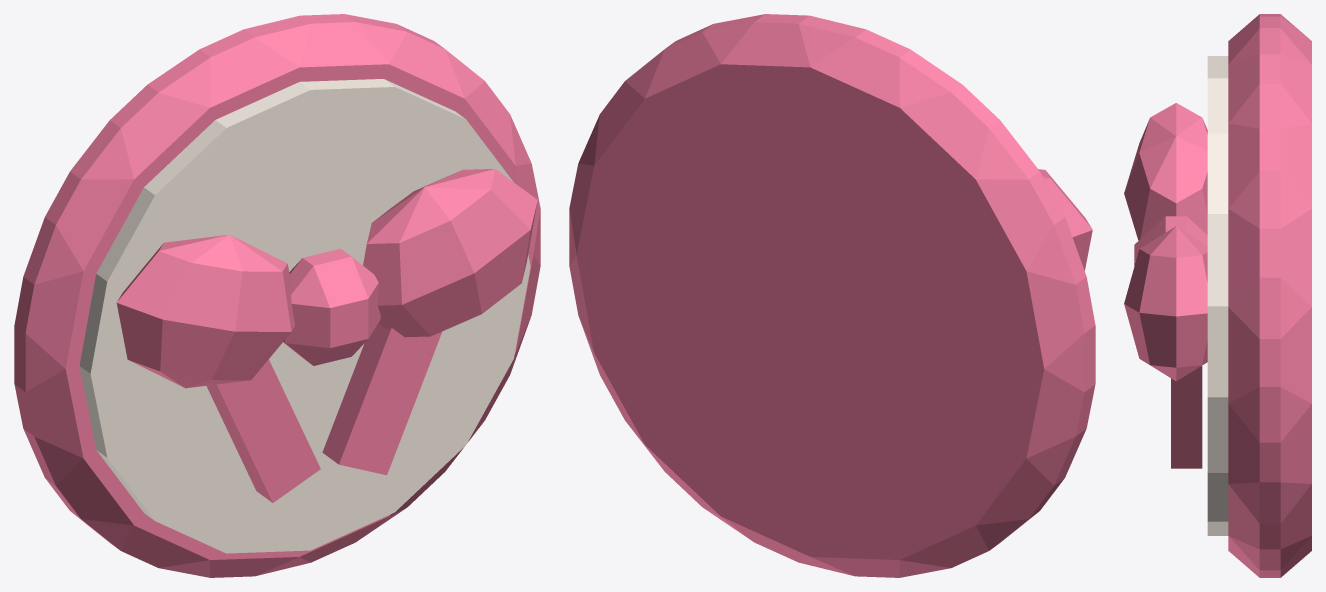
Rendered from CleanACat_Prop_BowButtonPink.fbx.
3 renders of one model, left to right at view 1: azimuth 30°, elevation 25°; view 2: azimuth 150°, elevation 25°; view 3: azimuth 270°, elevation 25°, orthographic. The views are drawn at different scales.
Visible parts, largest first — view 1: CleanACat_Prop_BowButtonPink; view 2: CleanACat_Prop_BowButtonPink; view 3: CleanACat_Prop_BowButtonPink.
Boxes of the visible parts, x1=… form: CleanACat_Prop_BowButtonPink: x1=14, y1=14, x2=540, y2=577; CleanACat_Prop_BowButtonPink: x1=569, y1=14, x2=1095, y2=577; CleanACat_Prop_BowButtonPink: x1=1124, y1=14, x2=1311, y2=577.
Size of the model in its own units: 1.08 by 1.08 by 0.36.
Materials: 1 (1 with a texture image).
